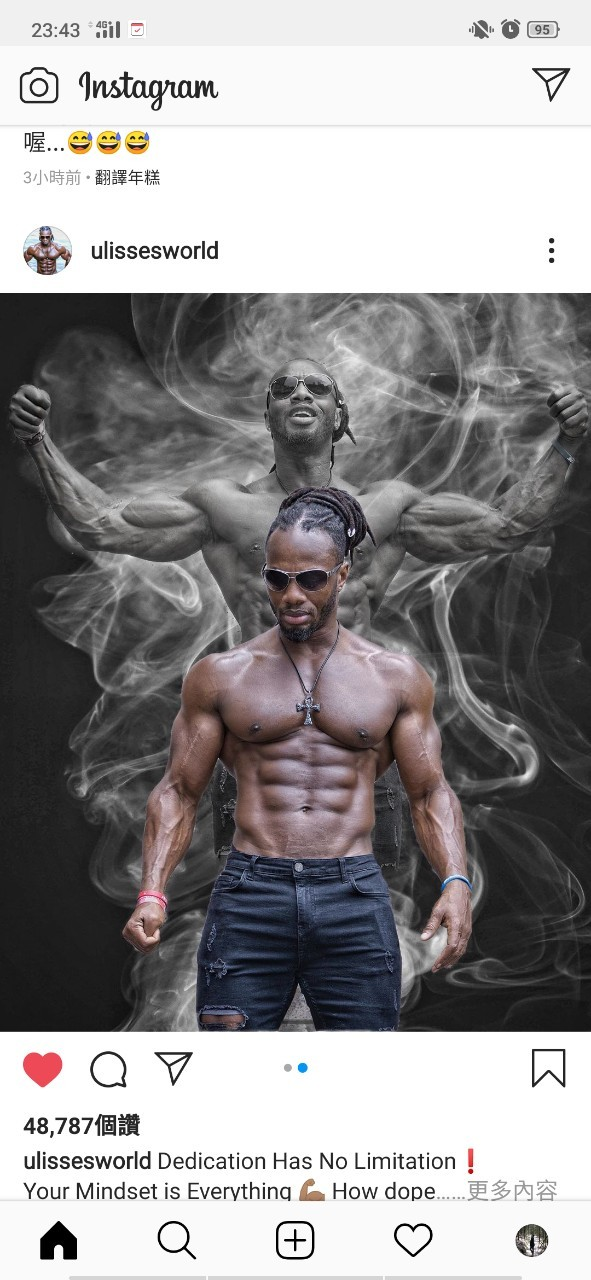people: (161, 494, 467, 1047)
